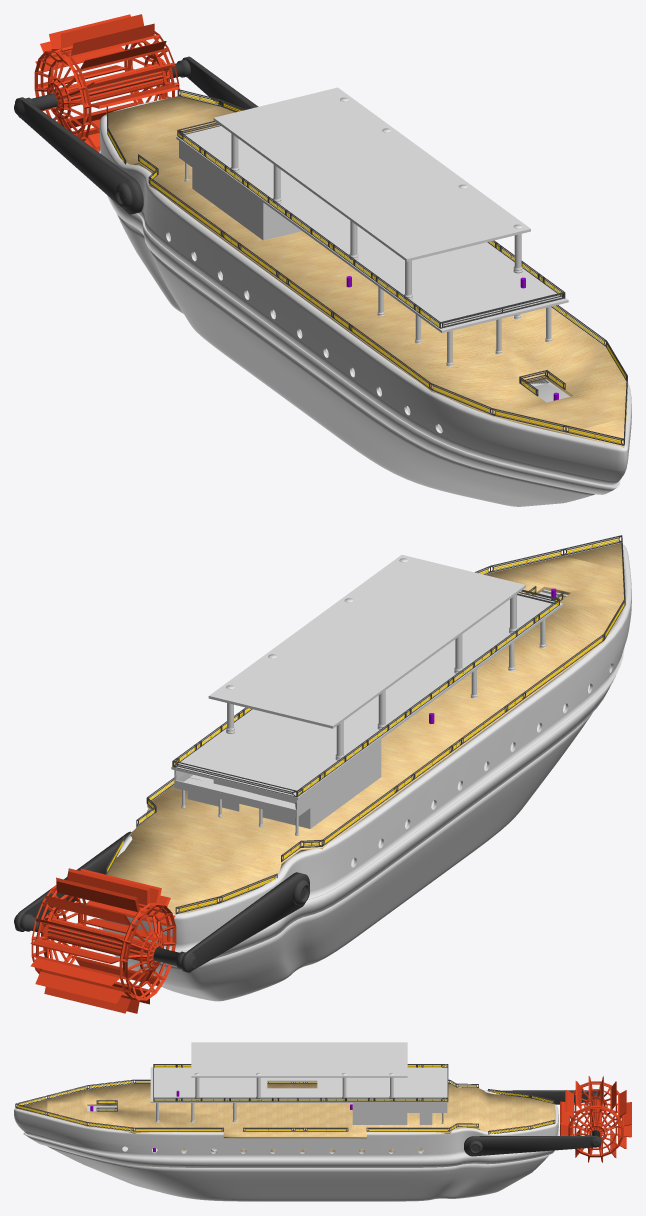
File: yacht map2.fbx
3 renders of one model, top to bottom at view 1: azimuth 30°, elevation 25°; view 2: azimuth 150°, elevation 25°; view 3: azimuth 270°, elevation 25°, orthographic. The views are drawn at different scales.
Parts seen in each view (by area): view 1: hull, Plane, upper deck roof, upper deck, water wheel, fin wheel axle, lower rails, back building, upper rails, second floor pillars, lower pillars; view 2: hull, Plane, upper deck roof, upper deck, water wheel, back building, fin wheel axle, lower rails, upper rails, second floor pillars; view 3: hull, Plane, upper deck roof, upper deck, water wheel, lower rails, fin wheel axle, upper rails, back building, second floor pillars.
Part boxes in pixels (left/top/right/bottom): hull: left=99, top=98, right=631, bottom=506; Plane: left=108, top=96, right=626, bottom=447; upper deck roof: left=213, top=87, right=530, bottom=261; upper deck: left=176, top=126, right=568, bottom=333; water wheel: left=34, top=14, right=179, bottom=152; fin wheel axle: left=14, top=56, right=258, bottom=214; lower rails: left=106, top=89, right=627, bottom=445; back building: left=179, top=141, right=301, bottom=240; upper rails: left=177, top=121, right=565, bottom=328; second floor pillars: left=230, top=97, right=522, bottom=299; lower pillars: left=377, top=287, right=552, bottom=366; hull: left=99, top=545, right=631, bottom=1001; Plane: left=107, top=543, right=624, bottom=914; upper deck roof: left=208, top=555, right=525, bottom=728; upper deck: left=171, top=593, right=563, bottom=799; water wheel: left=30, top=868, right=176, bottom=1013; back building: left=174, top=739, right=381, bottom=828; fin wheel axle: left=14, top=831, right=309, bottom=972; lower rails: left=105, top=535, right=625, bottom=914; upper rails: left=172, top=590, right=559, bottom=797; second floor pillars: left=226, top=558, right=517, bottom=760; hull: left=14, top=1085, right=559, bottom=1201; Plane: left=15, top=1083, right=554, bottom=1138; upper deck roof: left=191, top=1042, right=407, bottom=1077; upper deck: left=150, top=1067, right=448, bottom=1102; water wheel: left=560, top=1076, right=631, bottom=1162; lower rails: left=15, top=1079, right=555, bottom=1134; fin wheel axle: left=464, top=1090, right=601, bottom=1156; upper rails: left=153, top=1064, right=448, bottom=1101; back building: left=352, top=1103, right=447, bottom=1124; second floor pillars: left=194, top=1073, right=394, bottom=1100.
Size of the model in its own units: 4380 by 4759 by 20878.
